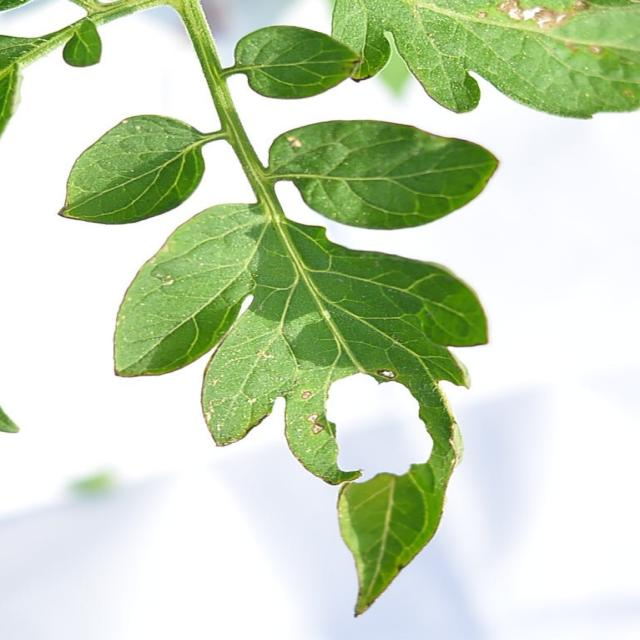infected: (289, 369, 448, 498), (456, 0, 623, 55)
